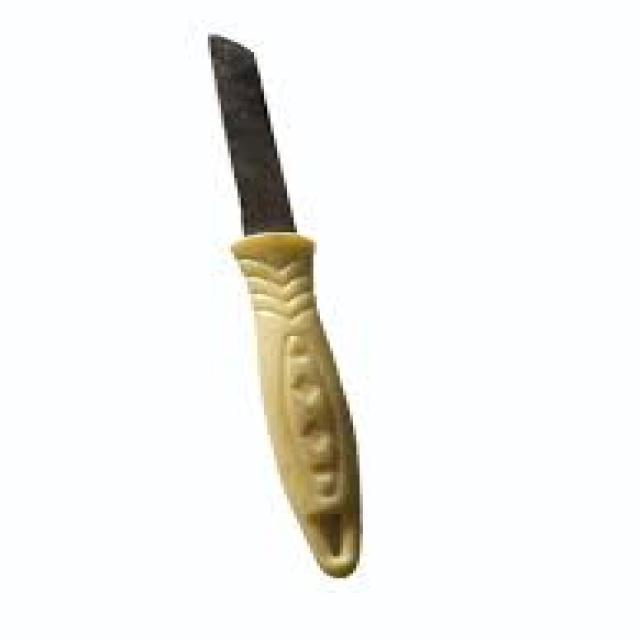Knife: (204, 30, 363, 578)
